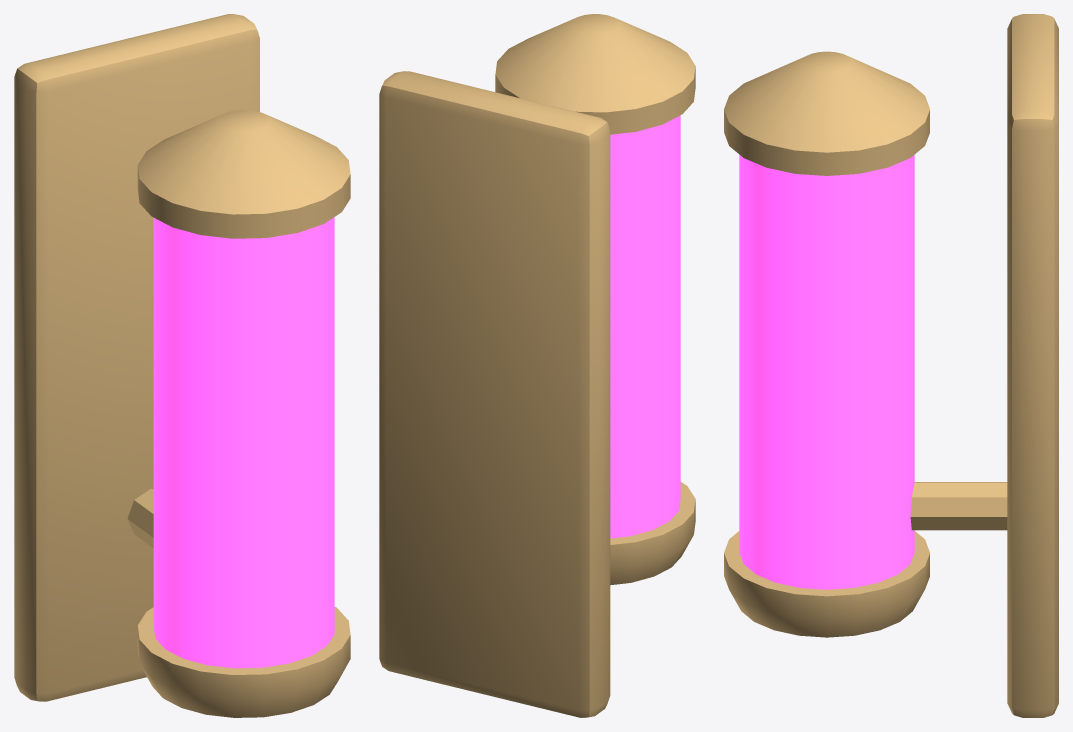
Rendered from KIT_Arandela.glb.
3 renders of one model, left to right at view 1: azimuth 30°, elevation 25°; view 2: azimuth 150°, elevation 25°; view 3: azimuth 270°, elevation 25°, orthographic. The views are drawn at different scales.
Visible parts, largest first — view 1: KIT_Arandela; view 2: KIT_Arandela; view 3: KIT_Arandela.
Boxes of the visible parts, x1,y1,x2,y2 form: KIT_Arandela: (14, 14, 350, 717); KIT_Arandela: (379, 14, 695, 717); KIT_Arandela: (724, 14, 1058, 717).
Size of the model in its own units: 0.1 by 0.26 by 0.13.
